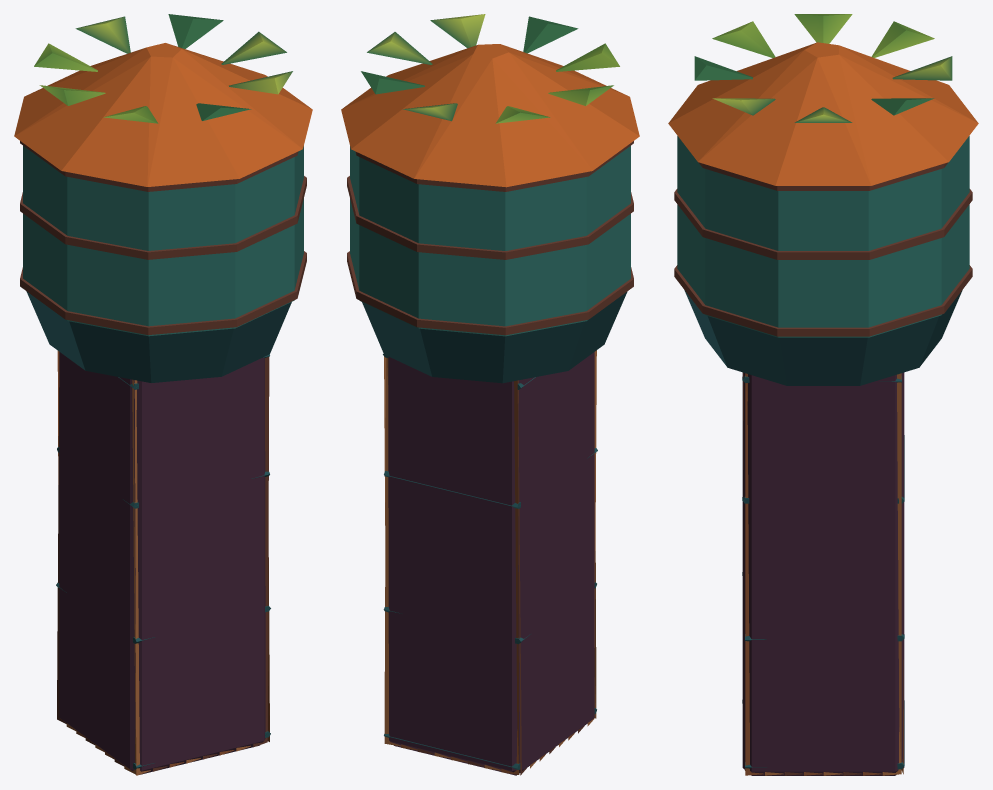
The model's file is grove_water_tower-lod1.glb.
The picture shows the model from 3 angles, left to right: view 1: azimuth 30°, elevation 25°; view 2: azimuth 150°, elevation 25°; view 3: azimuth 270°, elevation 25°; orthographic projection.
Parts seen in each view (by area): view 1: grove_water_tower; view 2: grove_water_tower; view 3: grove_water_tower.
Part boxes in pixels (box(x1,y1,x2,y2)): grove_water_tower: box(14, 14, 312, 775); grove_water_tower: box(341, 14, 639, 775); grove_water_tower: box(668, 14, 978, 775).
Bounding box in the file's own units: 10.84 × 28.2 × 11.4.
